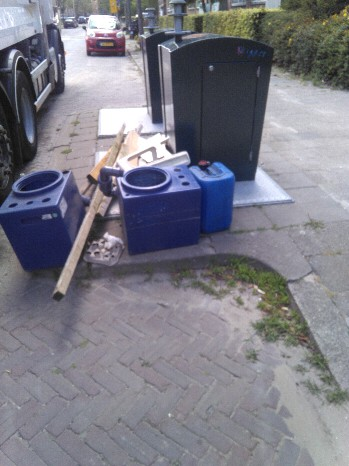Container: (148, 18, 273, 164)
Rest: (20, 168, 128, 285), (114, 165, 191, 237), (97, 134, 169, 190), (183, 157, 234, 231)
Voertuig: (87, 14, 131, 55)
